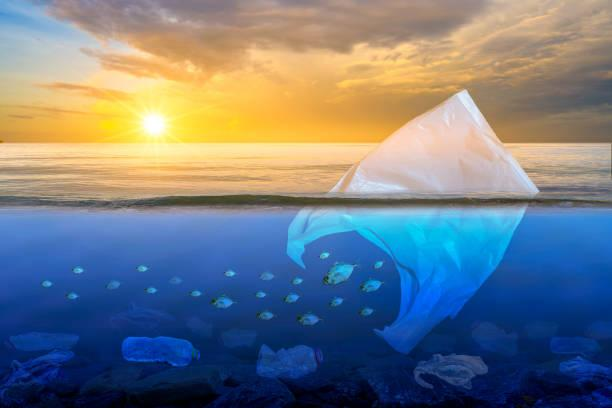Plastic: (111, 338, 208, 373), (252, 343, 330, 384), (6, 331, 89, 354)
Trash: (284, 82, 540, 347), (410, 353, 500, 390)
